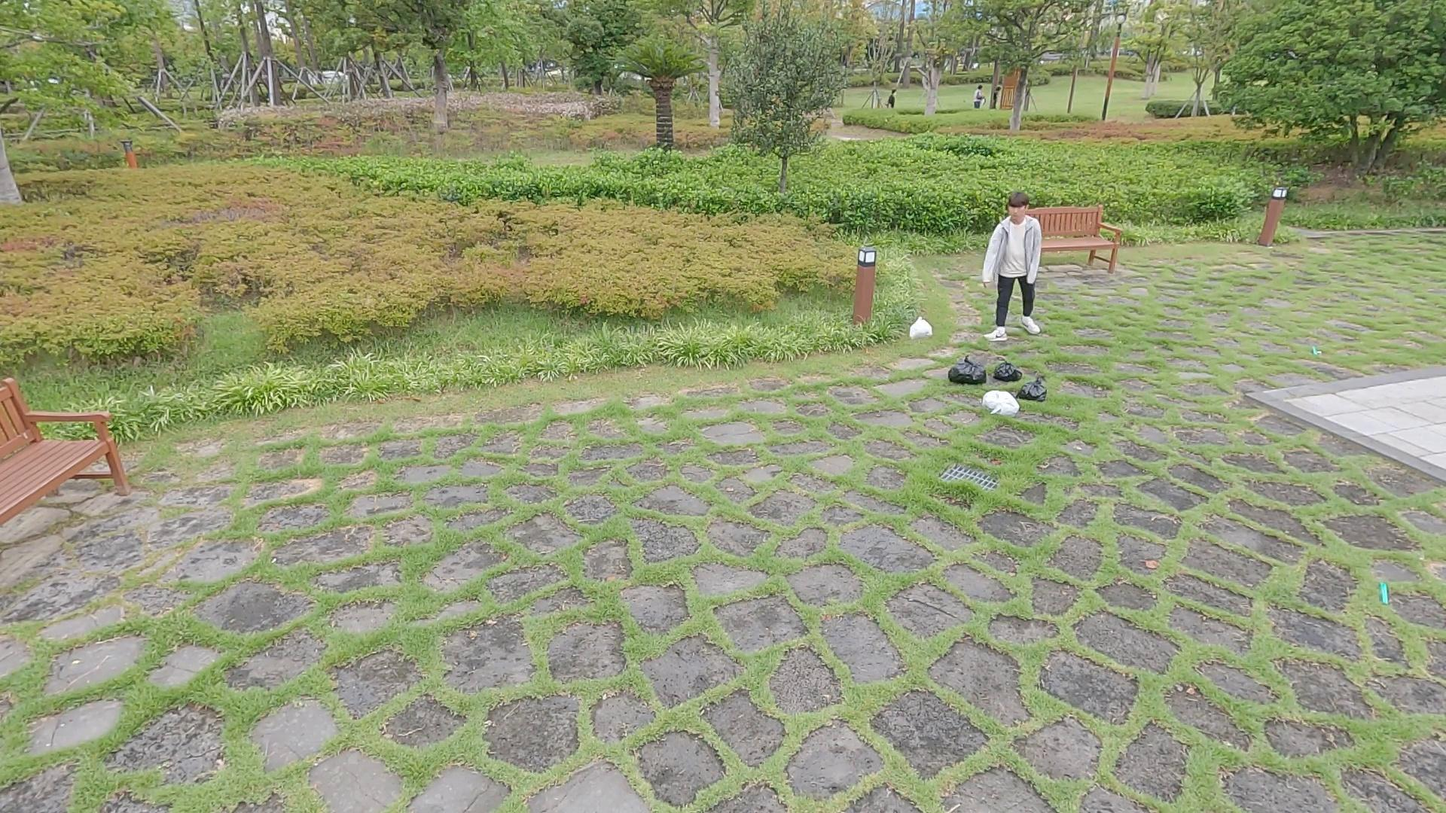person: (979, 188, 1044, 345)
trash: (946, 355, 987, 387), (981, 389, 1021, 420), (1014, 373, 1050, 402), (994, 356, 1023, 384), (907, 314, 932, 337)
